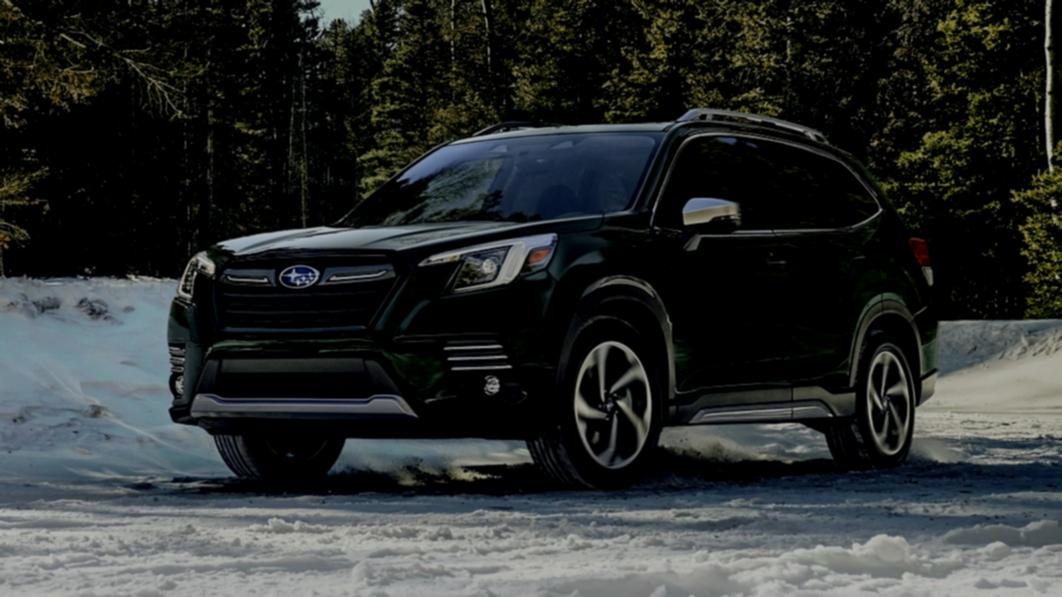subaru: (270, 255, 331, 292)
